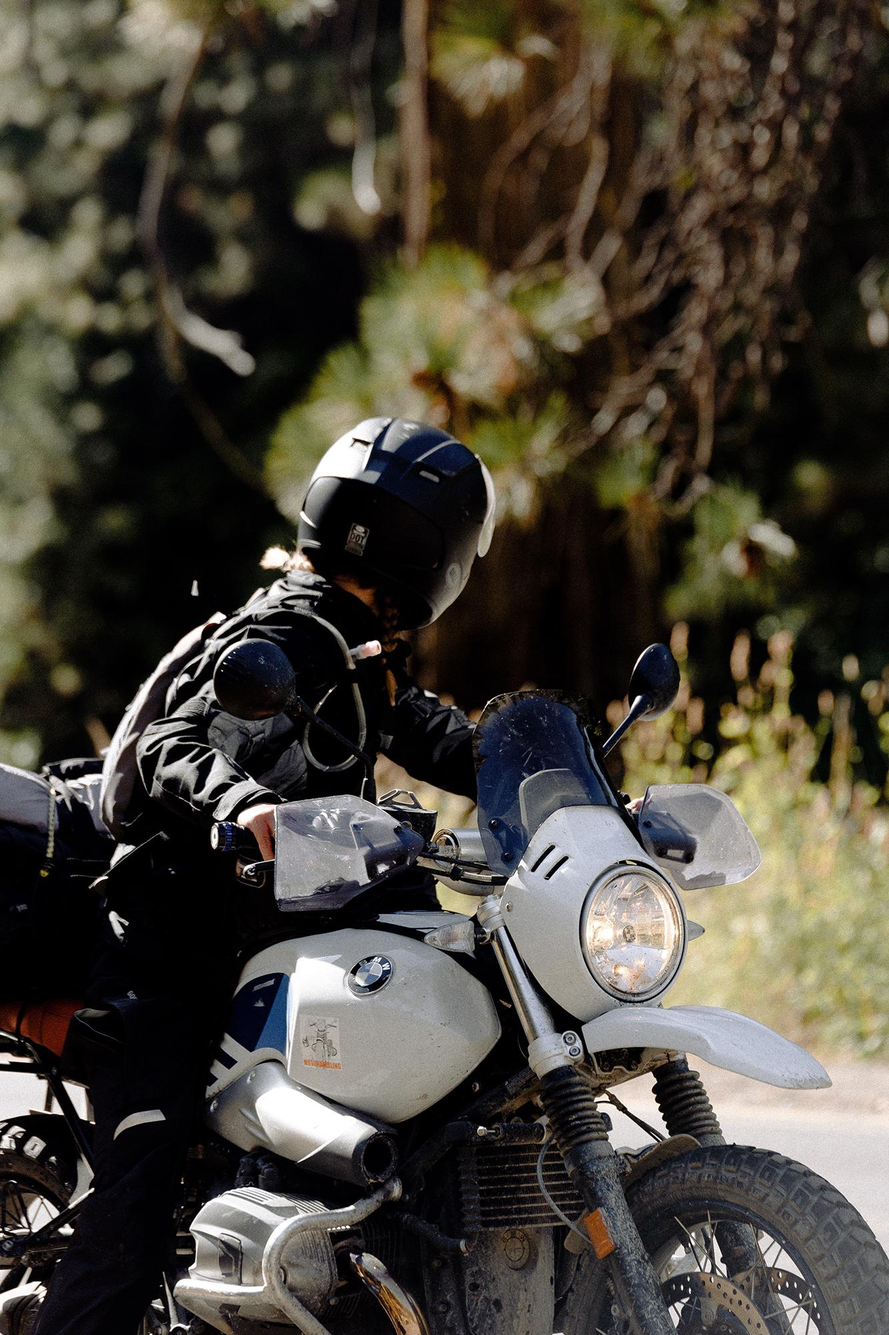helmet: (291, 414, 499, 633)
